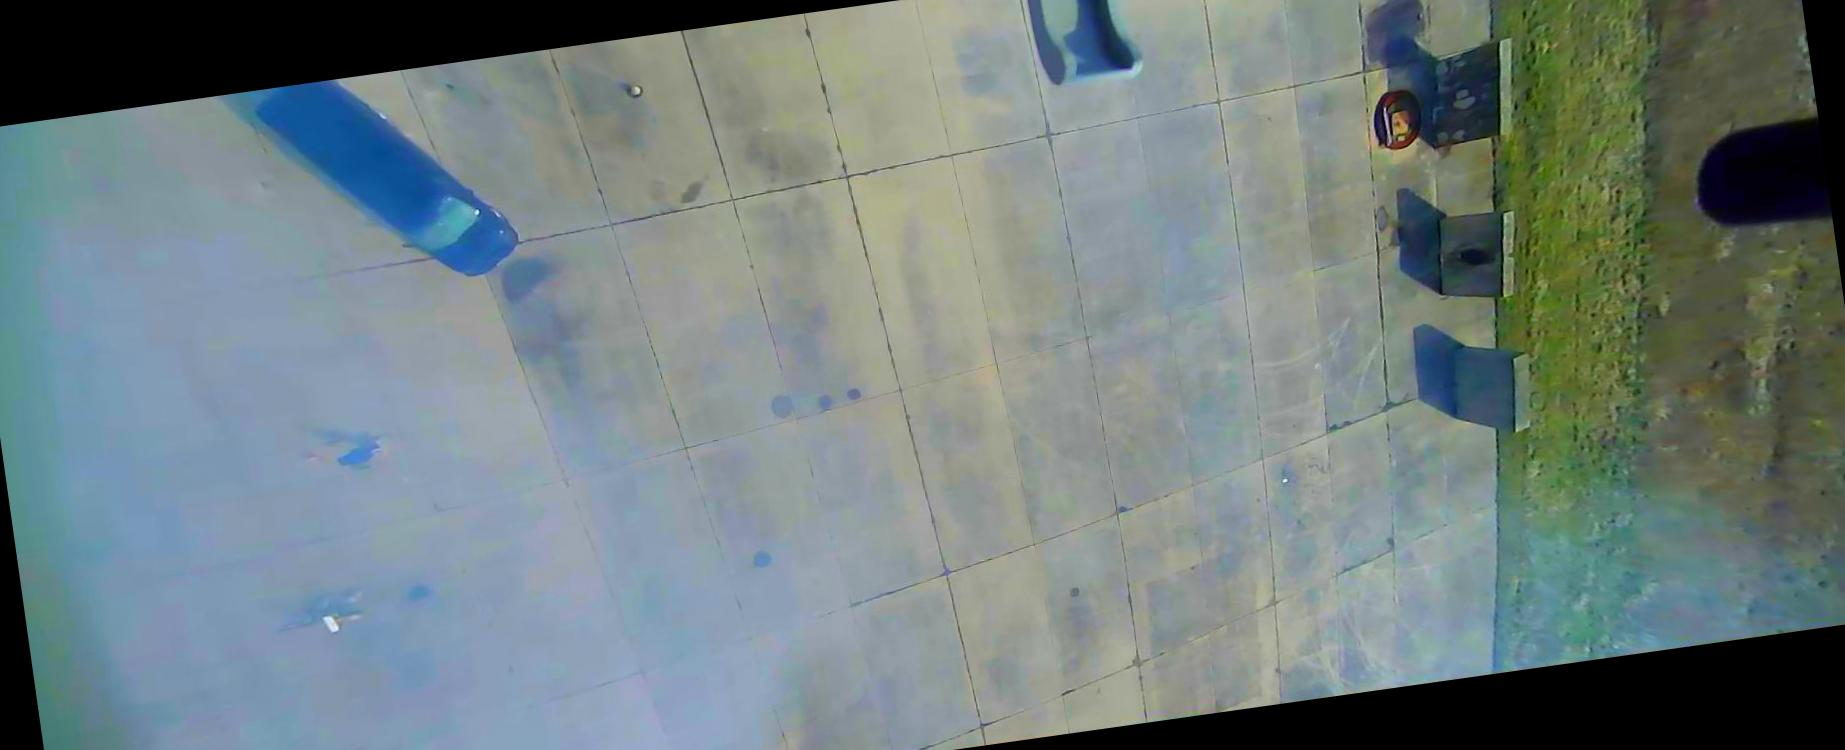vehicle: (253, 57, 524, 304)
